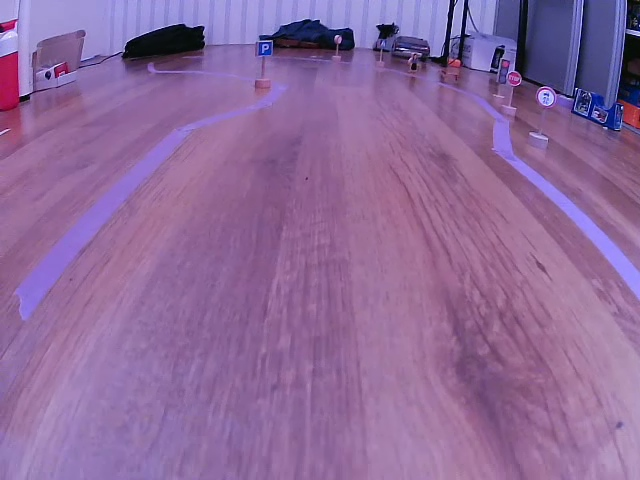fietspad: (536, 85, 555, 109)
parkeerbord: (255, 40, 273, 58)
stopbord: (507, 69, 523, 86)
